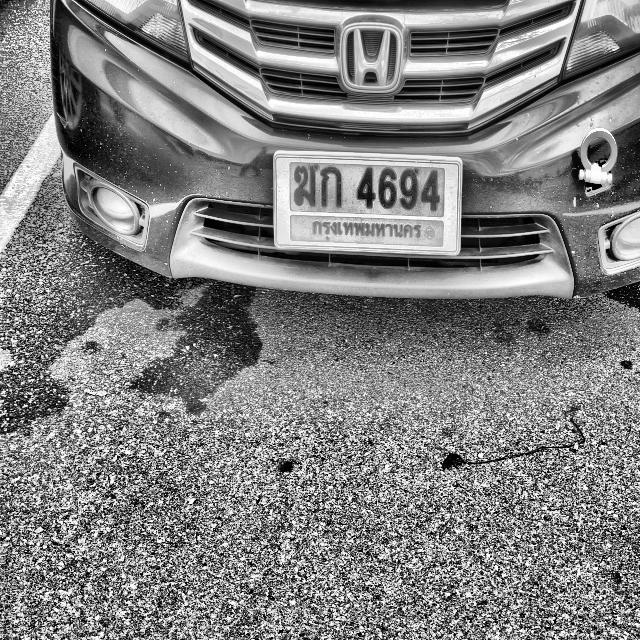license-plate: (274, 145, 463, 255)
